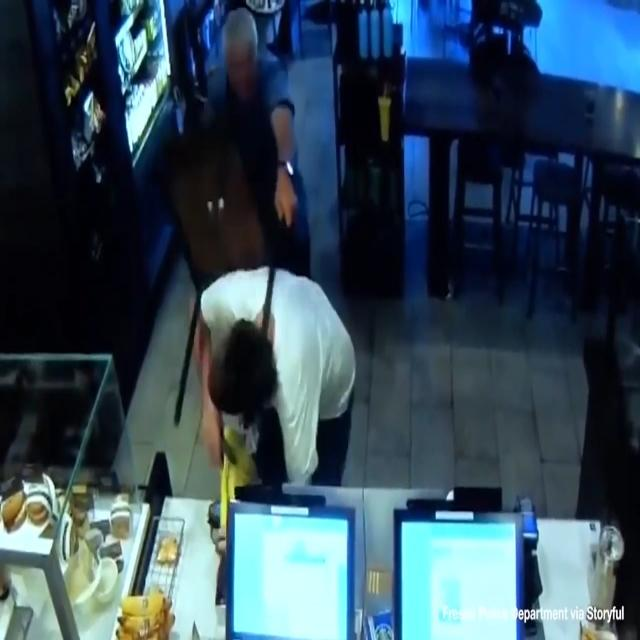fight: (191, 9, 356, 482)
